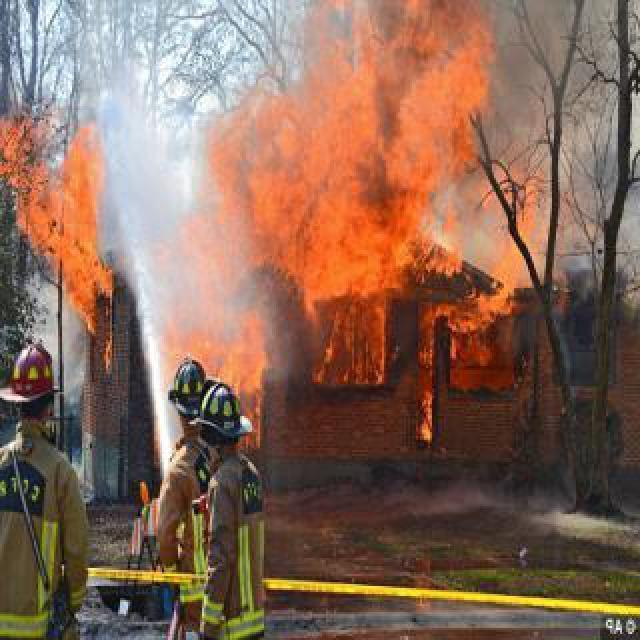Fire: (164, 2, 544, 446), (2, 116, 114, 370)
